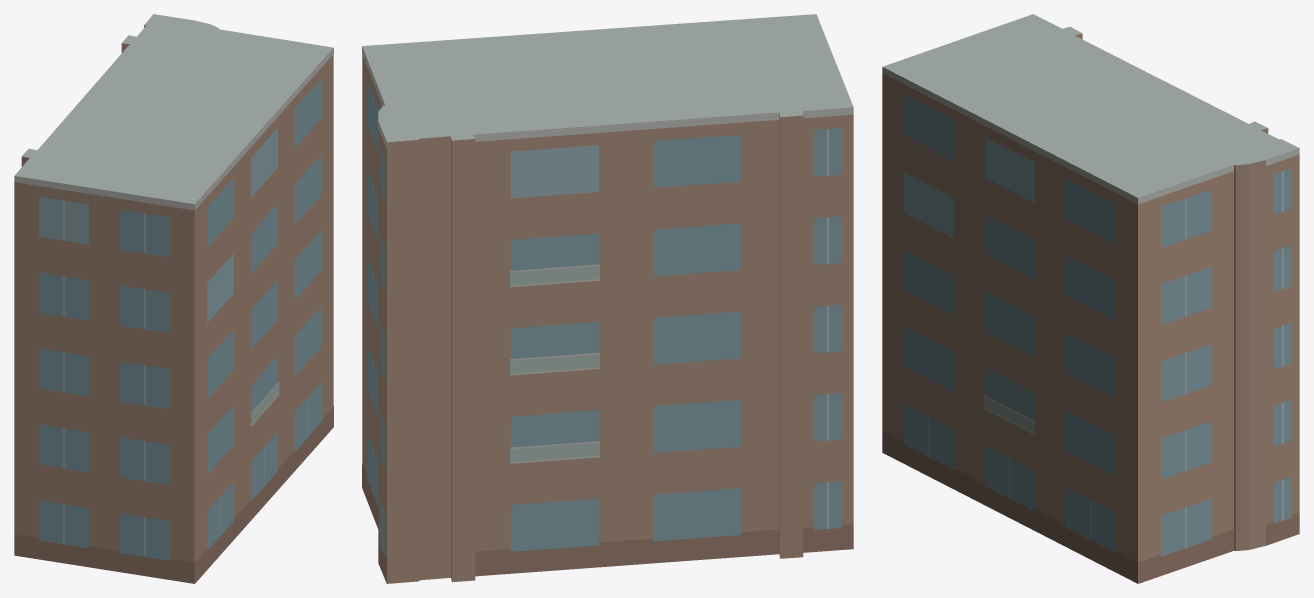
Rendered from survey-upis-32839696.glb.
3 views of the same model, side by side, from view 1: azimuth 30°, elevation 25°; view 2: azimuth 150°, elevation 25°; view 3: azimuth 270°, elevation 25° (orthographic). The views are drawn at different scales.
Visible parts, largest first — view 1: survey-upis-32839696.tmp; view 2: survey-upis-32839696.tmp; view 3: survey-upis-32839696.tmp.
Boxes of the visible parts, <box> form: survey-upis-32839696.tmp: <box>14,14,333,583</box>; survey-upis-32839696.tmp: <box>362,14,853,583</box>; survey-upis-32839696.tmp: <box>882,14,1299,583</box>.
Bounding box in the file's own units: 15.14 × 14.8 × 14.51.
